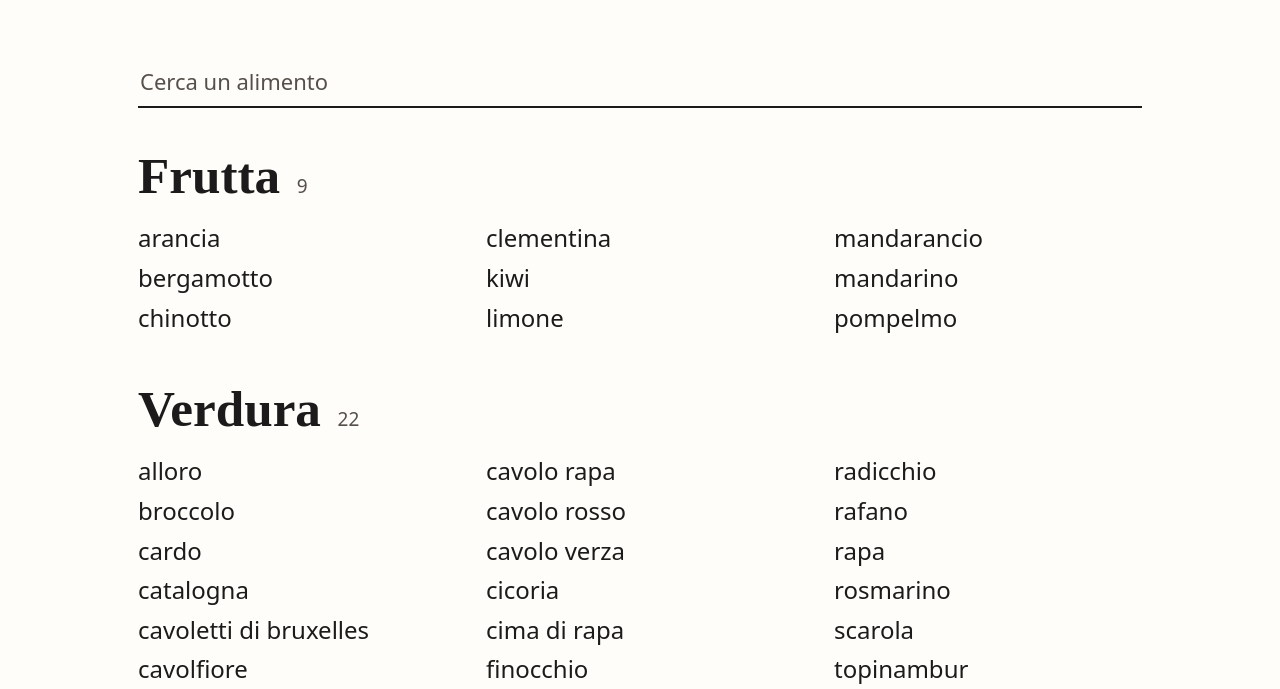
Scenario: MonthIssue › searches the whole year, naming the peak months of each match
Step 1. Type "  ANGURIA " into the search field labelled "Cerca un alimento" → [640, 82], box 138,56 -> 1142,108
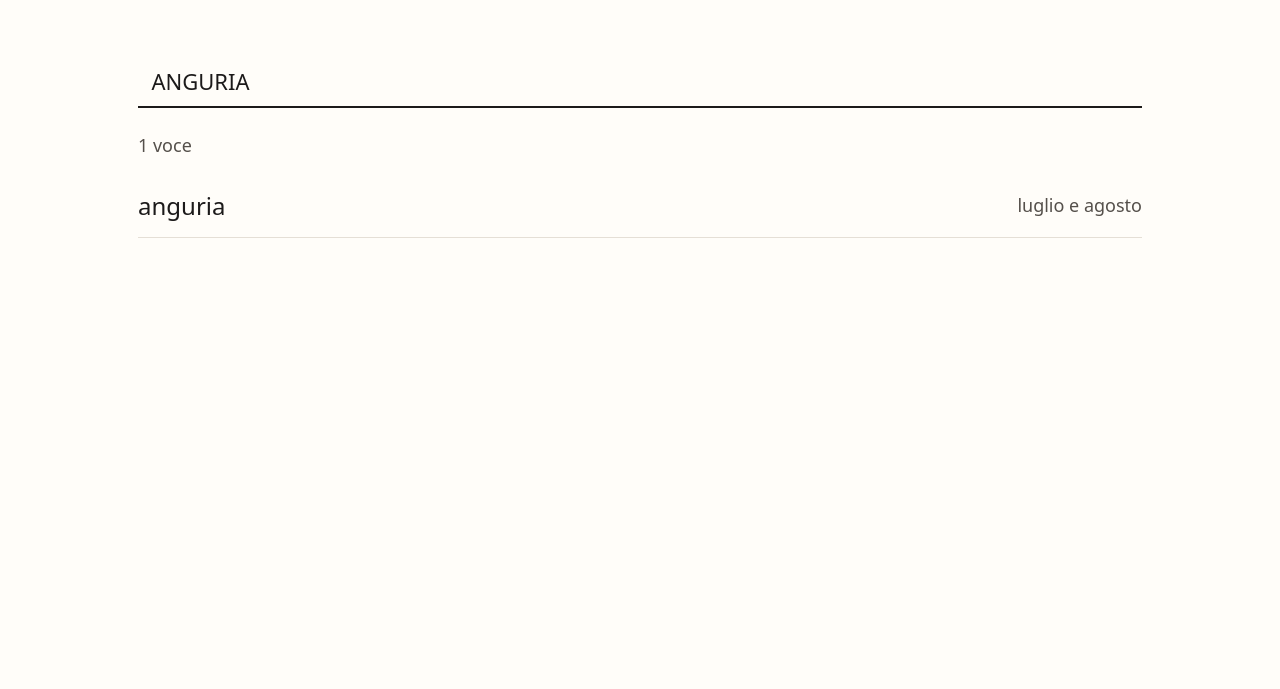
Expected: the message reads "1 voce", 138,133 -> 192,157
Expected: the list item "anguria" shows "luglio", 1017,192 -> 1142,216
Expected: the heading "Frutta" is gone
